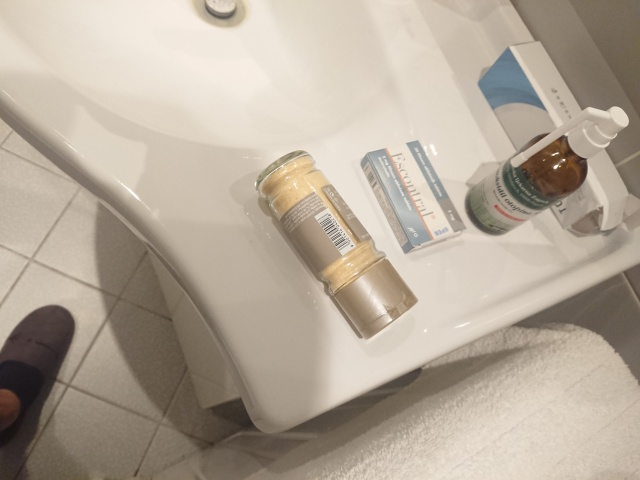Kotanyi Garlic Granules 70g: (252, 148, 421, 343)
